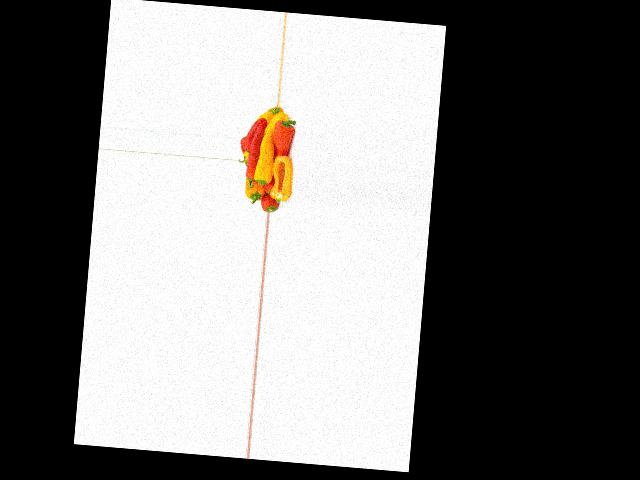bell_pepper: (256, 181, 280, 213)
